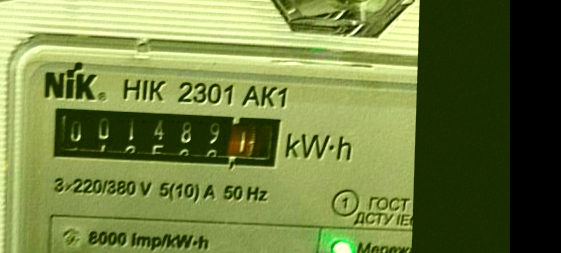0: (94, 115, 111, 140), (67, 118, 83, 143)
1: (123, 115, 138, 144), (235, 124, 248, 155)
4: (150, 117, 167, 143)
8: (176, 117, 194, 145)
9: (205, 120, 221, 146)
screen: (37, 97, 296, 181)
